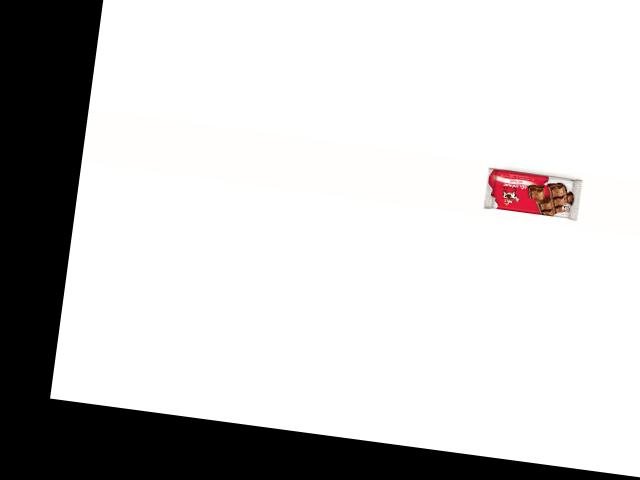chocolate: (480, 159, 585, 224)
